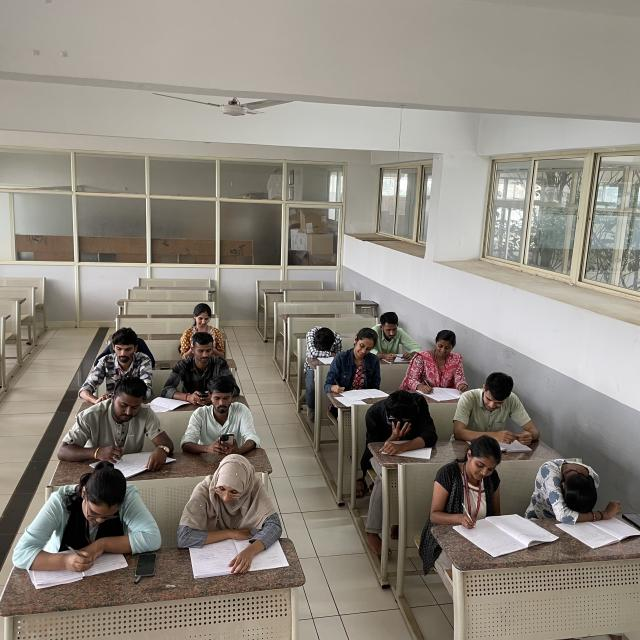Reading: (458, 372, 538, 453)
Sleeping: (532, 456, 609, 521), (302, 316, 347, 362)
Using Phone: (180, 375, 252, 454), (165, 336, 234, 402), (368, 389, 439, 442)
Writing: (16, 462, 140, 573), (433, 434, 531, 542), (62, 381, 170, 472), (409, 327, 472, 400), (327, 326, 380, 399), (371, 309, 414, 366)
